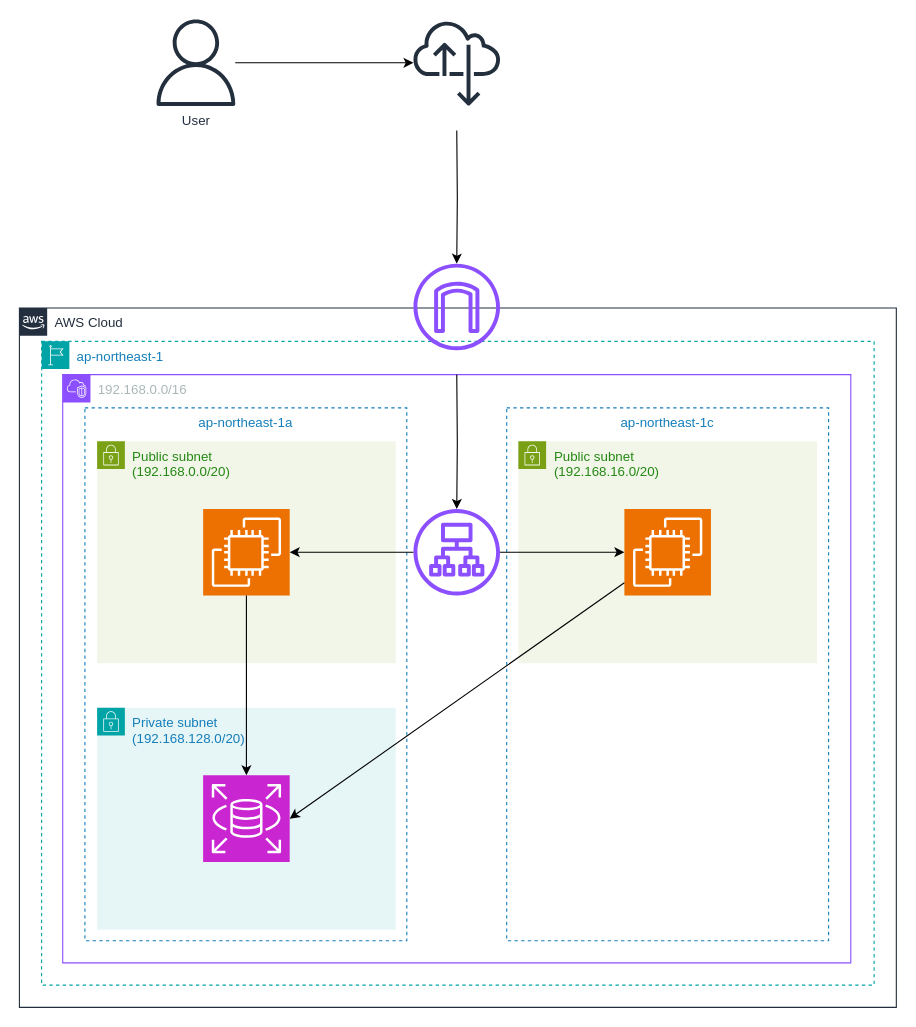
This 916x1027 diagram has some shape labels left out. The centre of each missing label's shape, as x and y in pixels:
"ALB" belongs at point (456, 551).
"IGW" belongs at point (456, 306).
"internet" belongs at point (456, 62).
